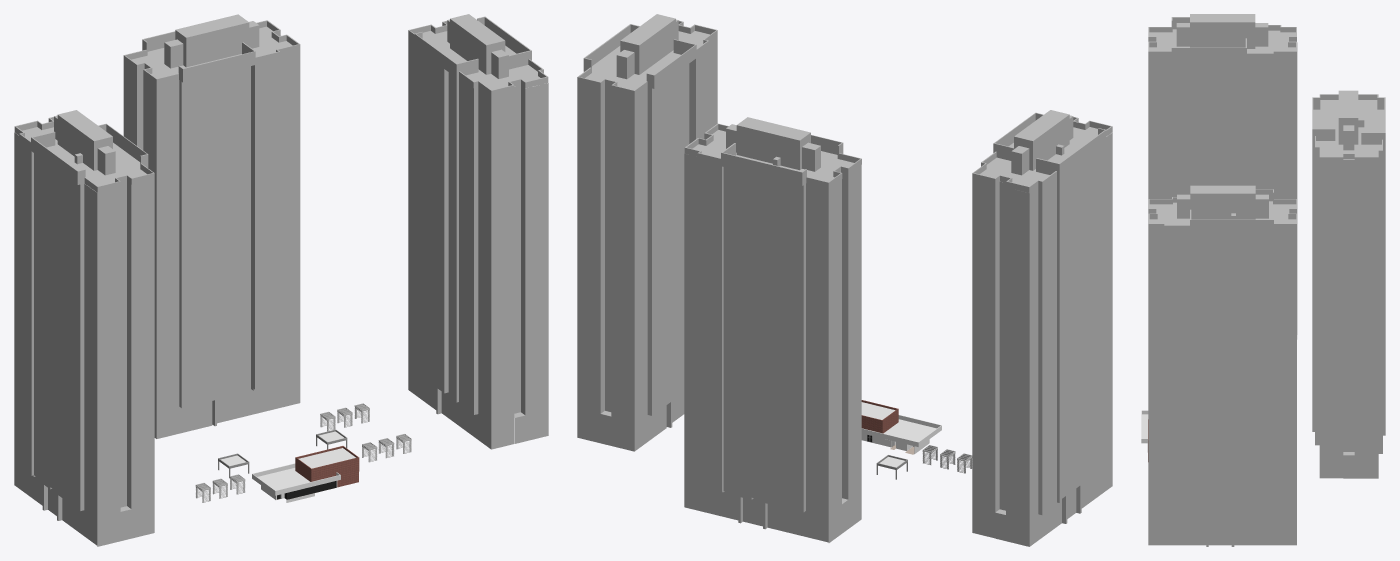
Rendered from IMPLANTACAO_LIMPA_R01.gltf.
3 renders of one model, left to right at view 1: azimuth 30°, elevation 25°; view 2: azimuth 150°, elevation 25°; view 3: azimuth 270°, elevation 25°, orthographic. The views are drawn at different scales.
Parts seen in each view (by area): view 1: Plane004, Plane003, Plane005, Rectangle002, Rectangle001, Box026; view 2: Plane004, Plane003, Plane005, Box026, Rectangle001, Rectangle002; view 3: Plane005, Plane004, Plane003.
Boxes of the visible parts, <box> form: Plane004: <box>123,14,300,438</box>; Plane003: <box>14,110,154,546</box>; Plane005: <box>408,14,548,449</box>; Rectangle002: <box>295,446,359,487</box>; Rectangle001: <box>252,463,340,495</box>; Box026: <box>257,468,309,490</box>; Plane004: <box>684,117,861,542</box>; Plane003: <box>972,110,1112,546</box>; Plane005: <box>577,14,717,451</box>; Box026: <box>883,419,936,441</box>; Rectangle001: <box>861,415,941,446</box>; Rectangle002: <box>861,400,898,433</box>; Plane005: <box>1148,185,1296,546</box>; Plane004: <box>1312,90,1385,478</box>; Plane003: <box>1148,14,1297,339</box>.
Size of what is drawn, in the model's own units: 108 by 85.89 by 54.99.
